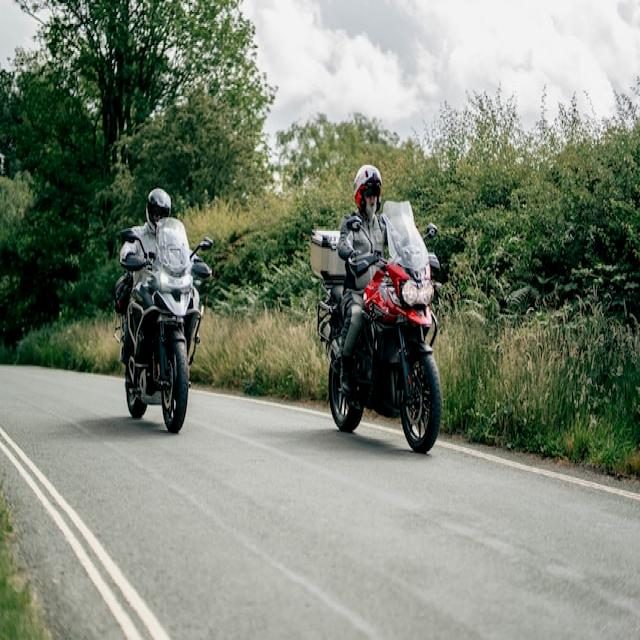MOTORCYCLE: (328, 265, 447, 460), (115, 251, 199, 440)
